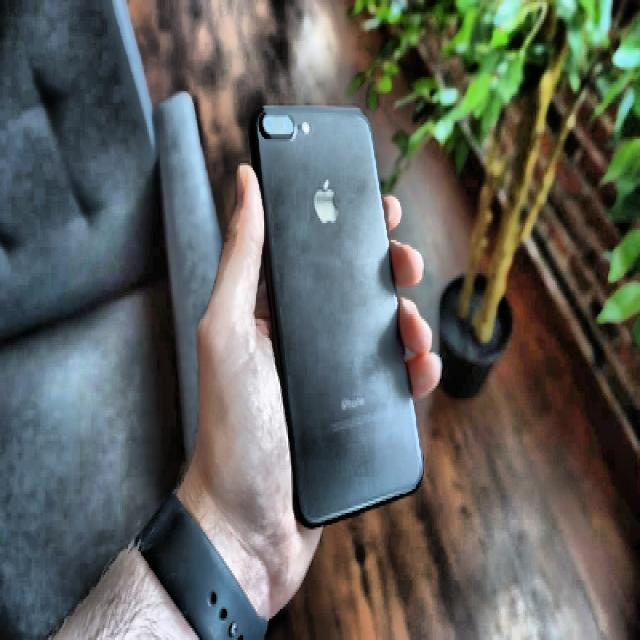Phone: (248, 101, 427, 532)
